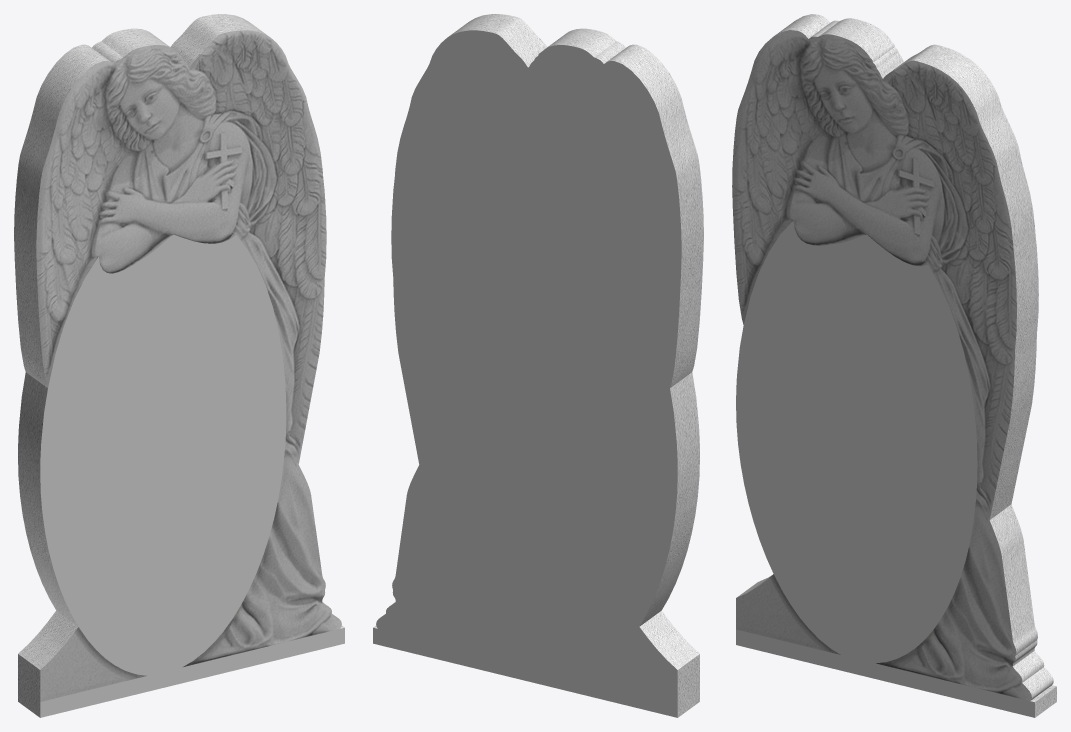
File: cn1d05733887_tkf.glb
3 views of the same model, side by side, from view 1: azimuth 30°, elevation 25°; view 2: azimuth 150°, elevation 25°; view 3: azimuth 330°, elevation 25° (orthographic).
Parts seen in each view (by area): view 1: Pam-d01-013_2_notexture, Pam-d01-013; view 2: Pam-d01-013, Pam-d01-013_2_notexture; view 3: Pam-d01-013_2_notexture, Pam-d01-013.
Boxes of the visible parts, box(x1,y1,x2,y2) form: Pam-d01-013_2_notexture: box(14, 14, 344, 717); Pam-d01-013: box(40, 234, 344, 717); Pam-d01-013: box(373, 30, 681, 717); Pam-d01-013_2_notexture: box(373, 14, 703, 717); Pam-d01-013_2_notexture: box(732, 14, 1056, 717); Pam-d01-013: box(736, 221, 1034, 717).
Bounding box in the file's own units: 0.4 × 0.8 × 0.05.
Materials: 1 (1 with a texture image).
